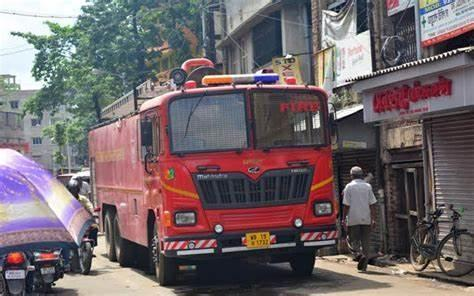Fire-engine: (89, 74, 339, 284)
